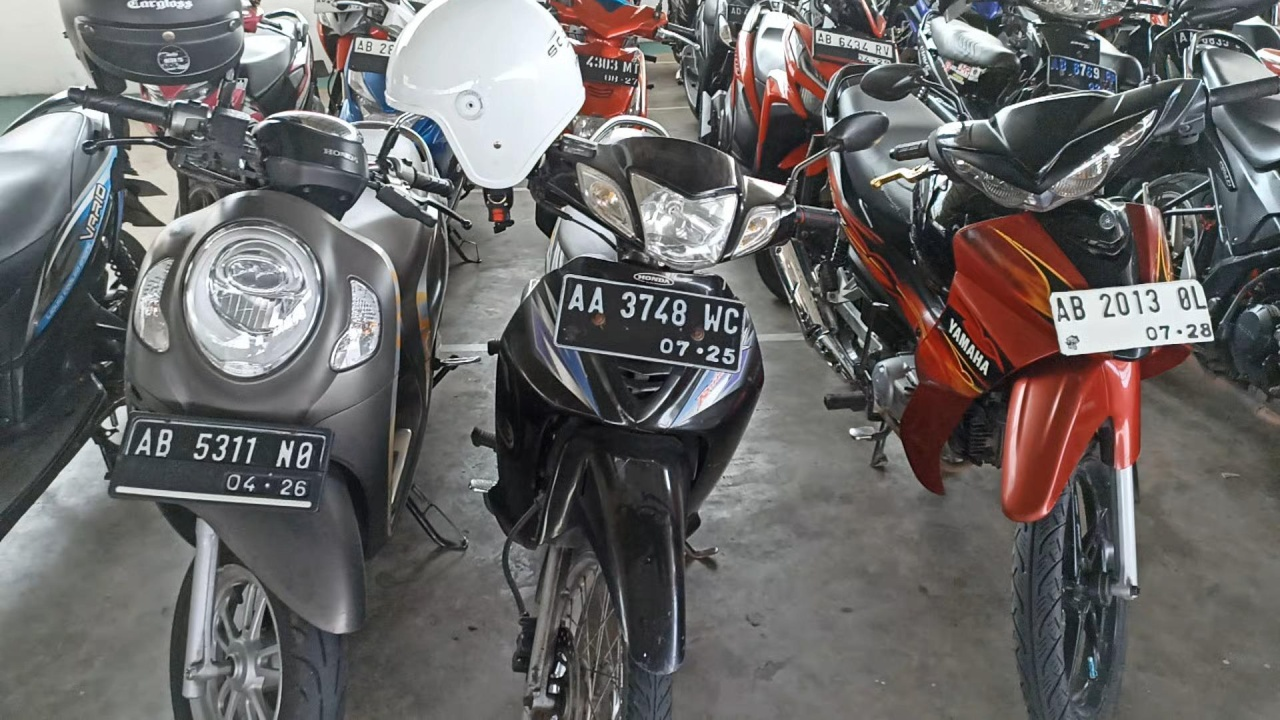plate: (113, 416, 329, 510), (554, 274, 745, 373), (1050, 279, 1216, 357), (814, 28, 897, 70)
